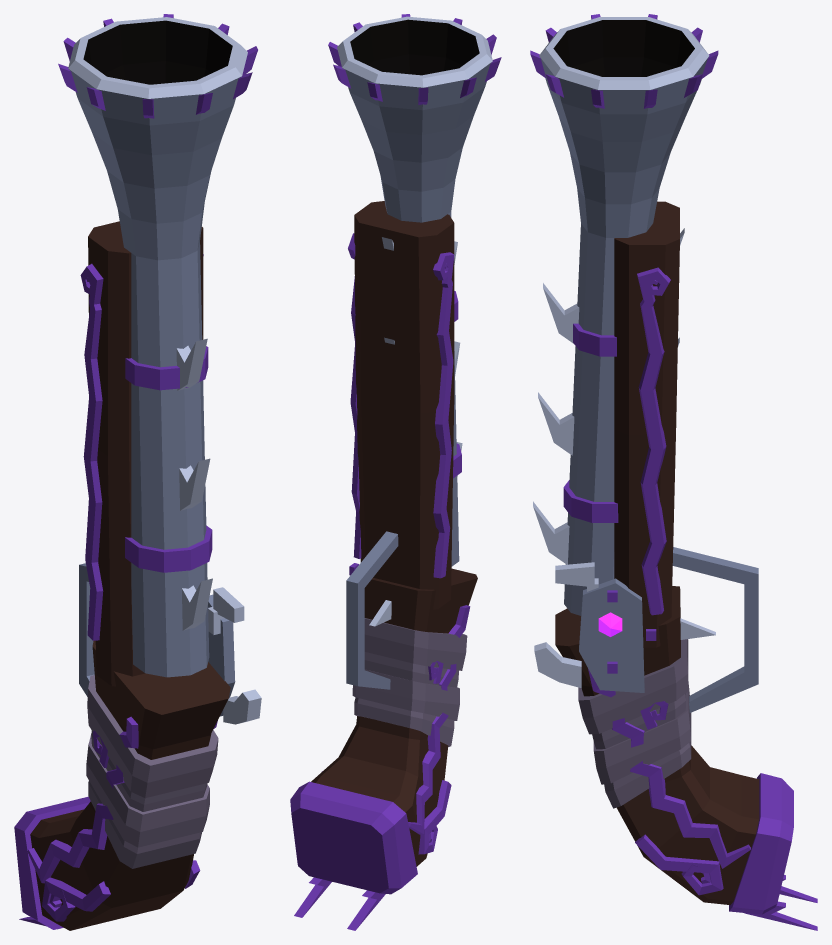
File: gun_epic.glb
The picture shows the model from 3 angles, left to right: view 1: azimuth 30°, elevation 25°; view 2: azimuth 150°, elevation 25°; view 3: azimuth 270°, elevation 25°; orthographic projection. The views are drawn at different scales.
Visible parts, largest first — view 1: gun_epic; view 2: gun_epic; view 3: gun_epic.
Boxes of the visible parts, bbox=[...] form: gun_epic: bbox=[14, 14, 261, 930]; gun_epic: bbox=[290, 14, 501, 930]; gun_epic: bbox=[530, 14, 817, 930].
Bounding box in the file's own units: 27.67 × 146 × 43.79.
